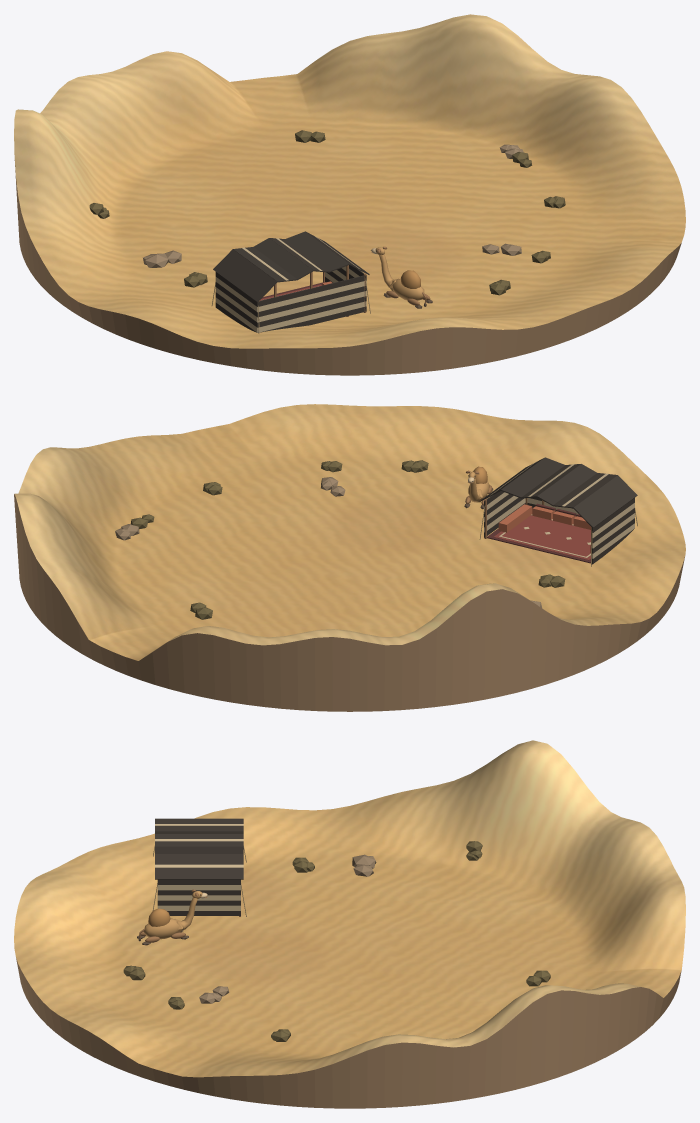
Rendered from scene_raid.glb.
3 views of the same model, one above another, from view 1: azimuth 30°, elevation 25°; view 2: azimuth 150°, elevation 25°; view 3: azimuth 270°, elevation 25° (orthographic).
Visible parts, largest first — view 1: Ground, Plinth, tent.002, camel_kneeling.002; view 2: Ground, Plinth, tent.002, camel_kneeling.002; view 3: Ground, Plinth, tent.002, camel_kneeling.002.
Boxes of the visible parts, x1=… form: Ground: x1=14, y1=14, x2=685, y2=348; Plinth: x1=14, y1=160, x2=681, y2=375; tent.002: x1=211, y1=231, x2=370, y2=333; camel_kneeling.002: x1=371, y1=246, x2=432, y2=308; Ground: x1=14, y1=404, x2=685, y2=660; Plinth: x1=14, y1=494, x2=684, y2=711; tent.002: x1=479, y1=457, x2=637, y2=566; camel_kneeling.002: x1=464, y1=466, x2=493, y2=509; Ground: x1=14, y1=740, x2=685, y2=1077; Plinth: x1=16, y1=958, x2=681, y2=1108; tent.002: x1=152, y1=818, x2=246, y2=916; camel_kneeling.002: x1=137, y1=889, x2=207, y2=945.
Bounding box in the file's own units: 33 × 5.97 × 33.
Materials: 6 (1 with a texture image).
